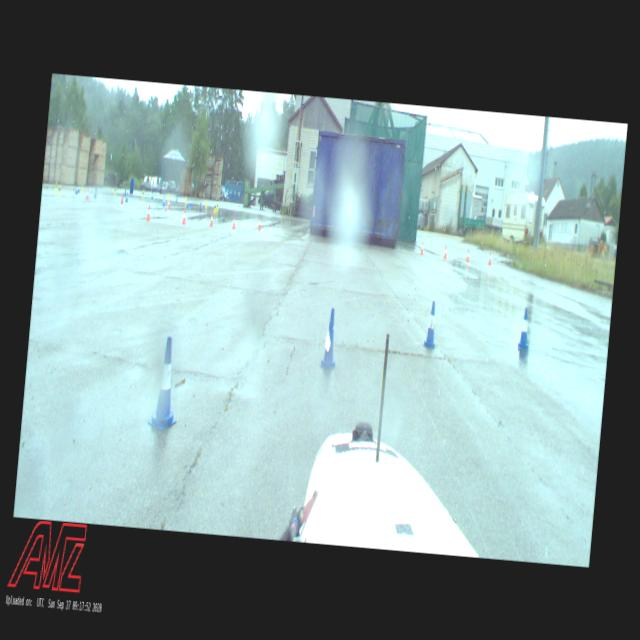blue_cone: (148, 336, 184, 432), (320, 308, 340, 370), (422, 302, 439, 349), (516, 307, 532, 352), (125, 190, 128, 203), (74, 184, 78, 193), (162, 195, 165, 206), (199, 201, 202, 212), (189, 196, 192, 206), (150, 191, 153, 200), (186, 198, 188, 210)
orange_cone: (464, 248, 470, 262), (442, 244, 448, 258), (418, 241, 424, 255), (209, 212, 214, 226), (231, 216, 236, 229), (487, 251, 492, 264), (182, 209, 186, 225), (146, 204, 150, 220), (120, 192, 124, 205), (257, 218, 261, 230), (85, 187, 88, 200), (167, 198, 170, 210)
yellow_cone: (58, 185, 61, 195), (213, 202, 216, 212), (167, 192, 170, 201), (54, 182, 57, 190), (184, 196, 187, 204), (216, 200, 218, 212), (142, 188, 144, 198), (114, 186, 115, 194)
